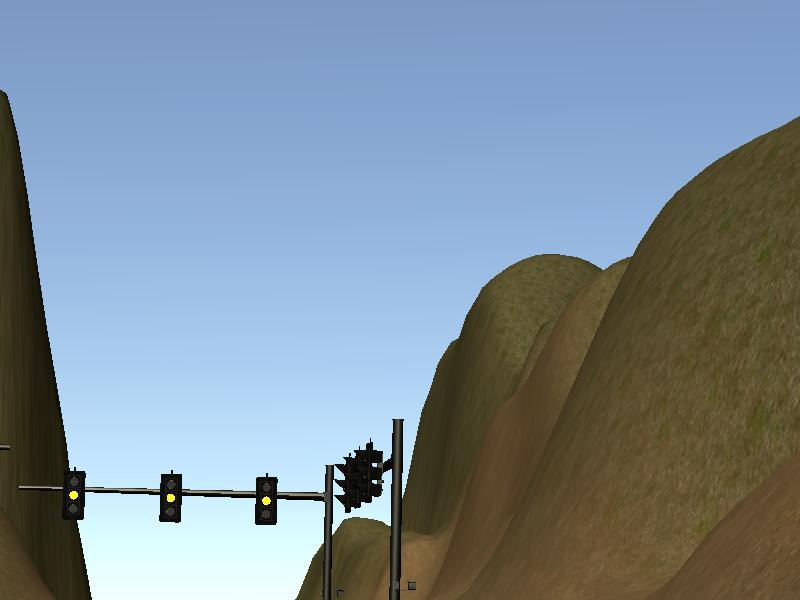yellow_light: (257, 477, 278, 526), (63, 472, 84, 519), (161, 473, 180, 521)
